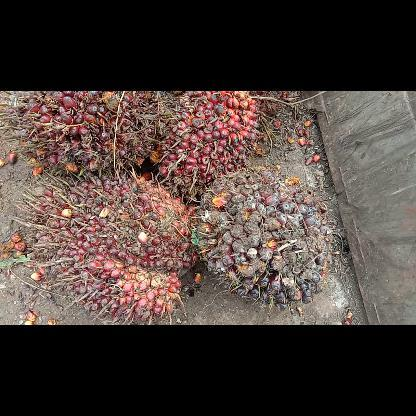Kurang masak: (193, 164, 339, 310)
TBS masak: (13, 162, 200, 324), (0, 91, 164, 177), (157, 91, 263, 204)
